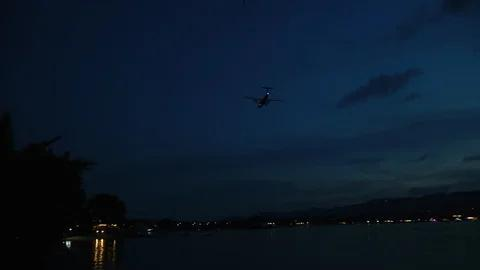Plane: (236, 87, 285, 116)
